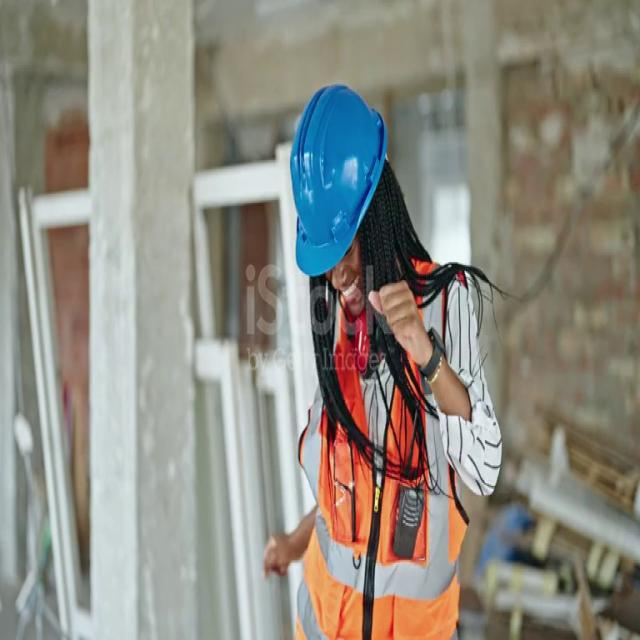capacete: (265, 58, 406, 291)
